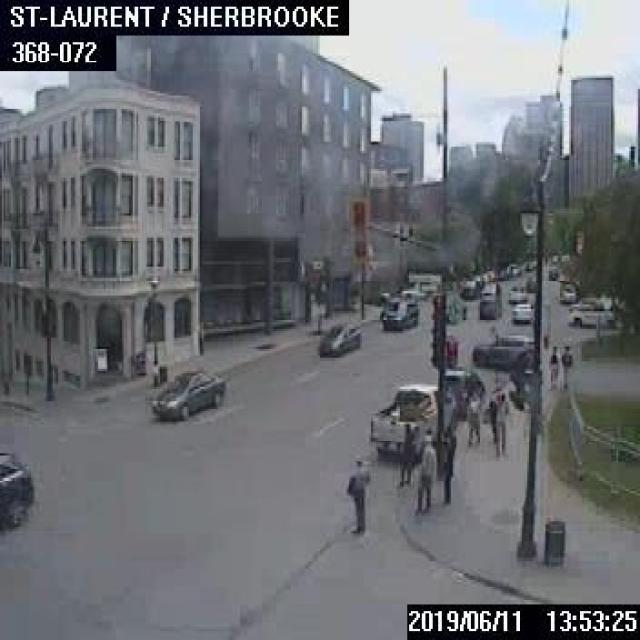pedestrian: (344, 456, 369, 531), (487, 385, 509, 457), (412, 440, 432, 511), (438, 431, 453, 502), (463, 387, 480, 443), (397, 424, 410, 487), (559, 343, 572, 387), (546, 340, 558, 387)
vehicle: (365, 383, 456, 462), (151, 366, 224, 416), (0, 447, 35, 533), (473, 331, 531, 365), (442, 368, 482, 416), (318, 318, 360, 356), (564, 296, 616, 326), (380, 296, 418, 326), (400, 270, 440, 298), (444, 295, 466, 322), (510, 299, 535, 322), (556, 276, 578, 302), (478, 295, 501, 317), (506, 282, 525, 302), (459, 277, 478, 297), (479, 281, 501, 297), (524, 274, 536, 289), (548, 264, 558, 277)
